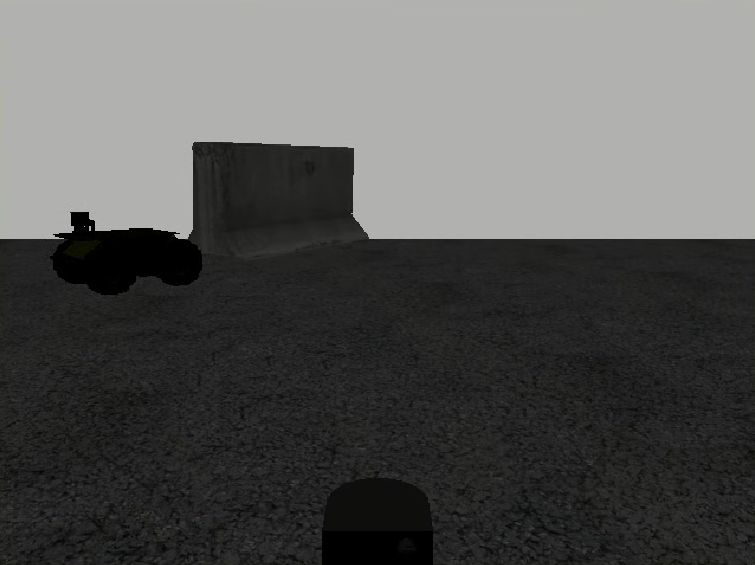husky: (49, 227, 204, 296)
